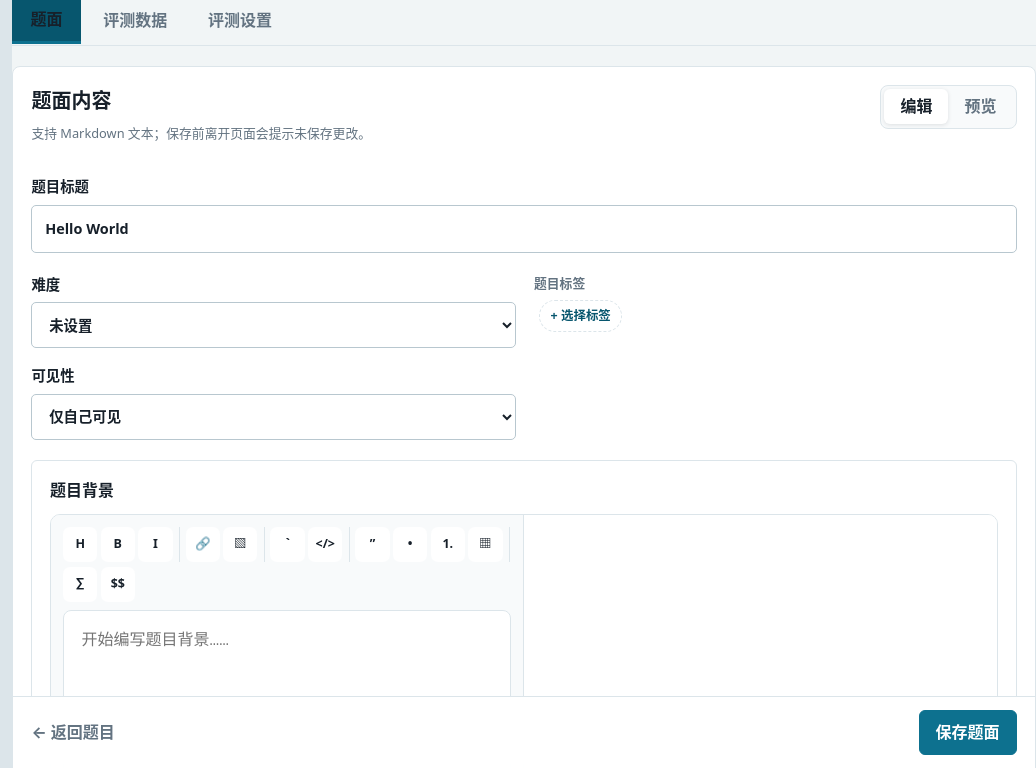
it: ProblemEditor judge-data contract UI › shows empty draft state and keeps testcase content metadata-only
Click the button "评测数据" at (135, 22), box [85,0,186,45]
(page scrolled)
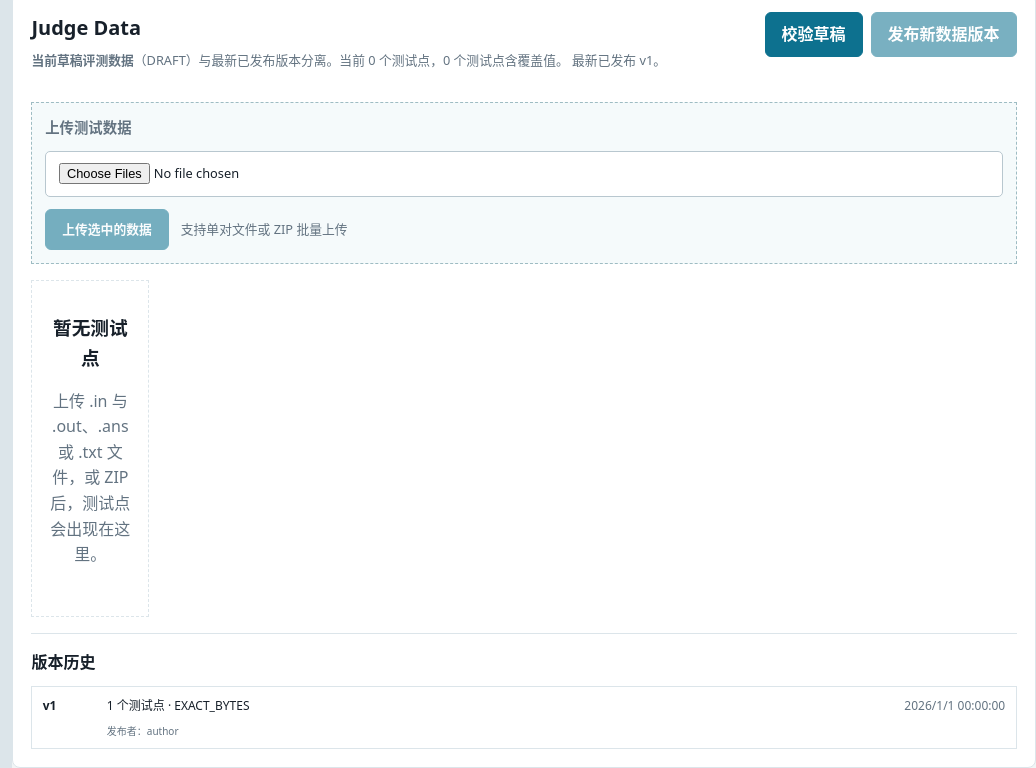
Now the heading "暂无测试点" is shown, box [48,313,132,373]
Now the text "上传 .in 与 .out、.ans 或 .txt 文件，或 ZIP 后，测试点会出现在这里。" is shown, box [48,389,132,568]
